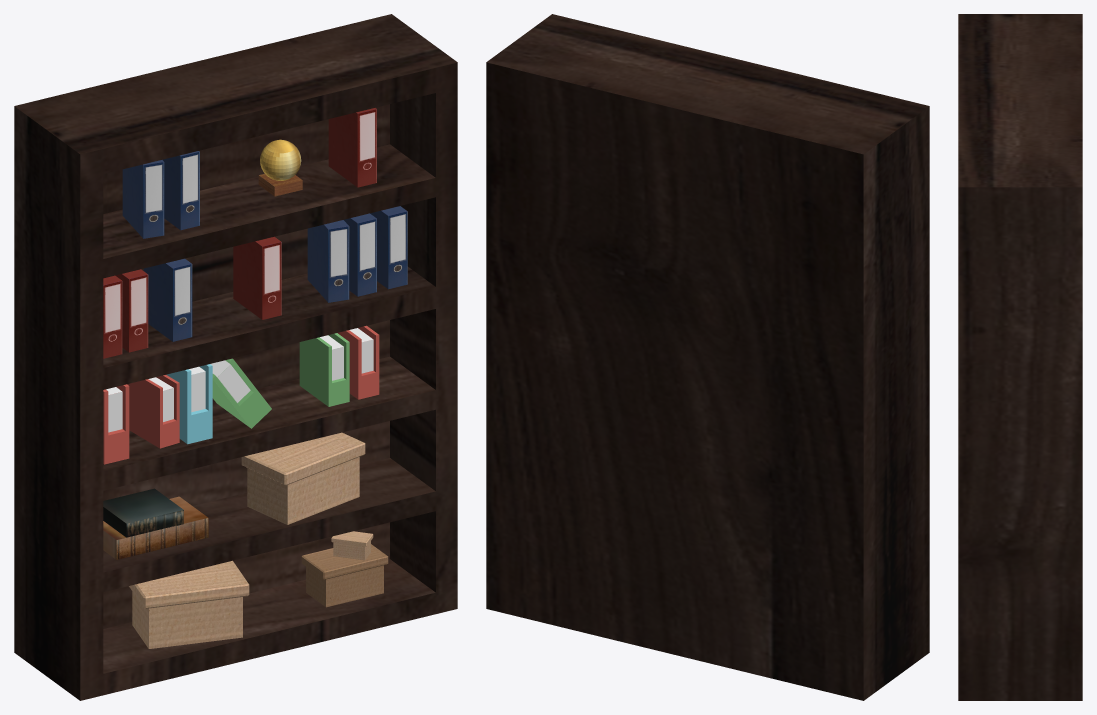
Rendered from biblioteczka.glb.
The picture shows the model from 3 angles, left to right: view 1: azimuth 30°, elevation 25°; view 2: azimuth 150°, elevation 25°; view 3: azimuth 270°, elevation 25°; orthographic projection. The views are drawn at different scales.
Parts seen in each view (by area): view 1: Cube.086, Cube.096, Cube.046, Cube.097, Cube.092, Cube.089, Cube.039, biurko.034, biurko.037, Cube.091, Cube.041, Cube.095 (+12 smaller); view 2: Cube.086; view 3: Cube.086.
Part boxes in pixels (x1=…): Cube.086: x1=14, y1=14, x2=457, y2=700; Cube.096: x1=241, y1=432, x2=365, y2=524; Cube.046: x1=129, y1=560, x2=249, y2=648; Cube.097: x1=301, y1=544, x2=388, y2=607; Cube.092: x1=233, y1=236, x2=281, y2=319; Cube.089: x1=143, y1=258, x2=192, y2=341; Cube.039: x1=328, y1=108, x2=376, y2=187; biurko.034: x1=127, y1=375, x2=179, y2=448; biurko.037: x1=299, y1=333, x2=349, y2=406; Cube.091: x1=307, y1=220, x2=349, y2=302; Cube.041: x1=122, y1=160, x2=164, y2=238; Cube.095: x1=103, y1=488, x2=183, y2=537; Cube.086: x1=486, y1=14, x2=929, y2=700; Cube.086: x1=958, y1=14, x2=1082, y2=700.
Bounding box in the file's own units: 3.97 × 5.49 × 1.2.
Materials: 24 (24 with a texture image).
